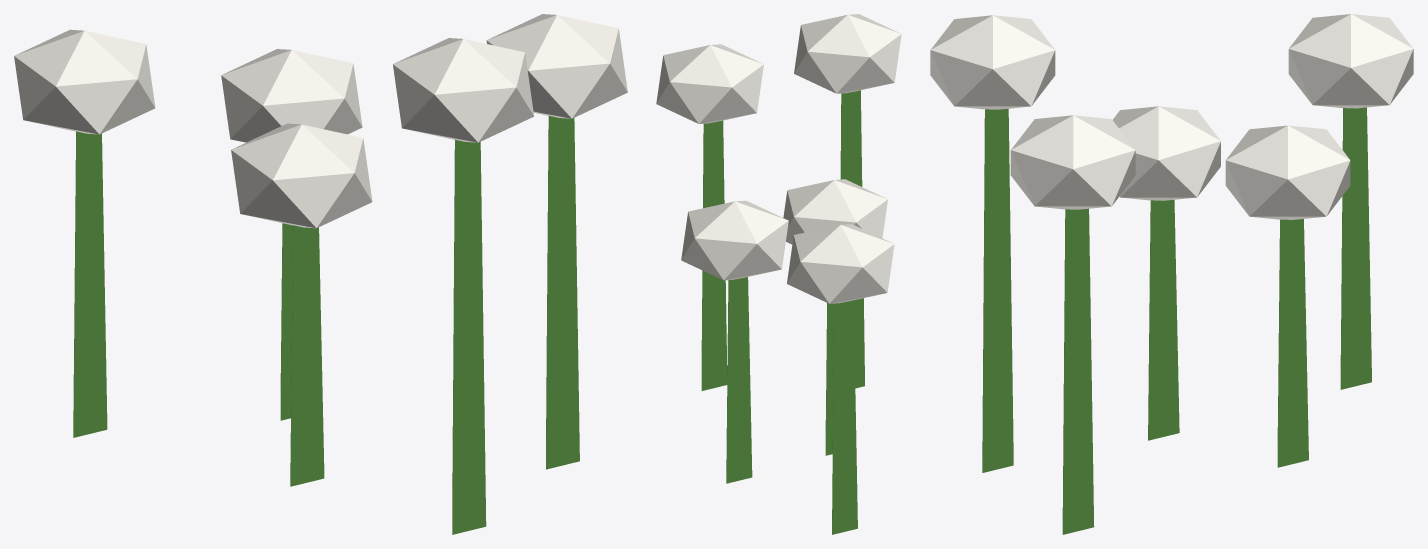
Rendered from Flowers_C.glb.
3 views of the same model, side by side, from view 1: azimuth 30°, elevation 25°; view 2: azimuth 150°, elevation 25°; view 3: azimuth 270°, elevation 25° (orthographic). The views are drawn at different scales.
Visible parts, largest first — view 1: Flowers_C; view 2: Flowers_C; view 3: Flowers_C.
Part boxes in pixels (x1,y1,x2,y2): Flowers_C: (14,14,627,534); Flowers_C: (656,14,901,534); Flowers_C: (930,14,1413,534).
Size of the model in its own units: 0.4525 by 0.4738 by 0.4608.
